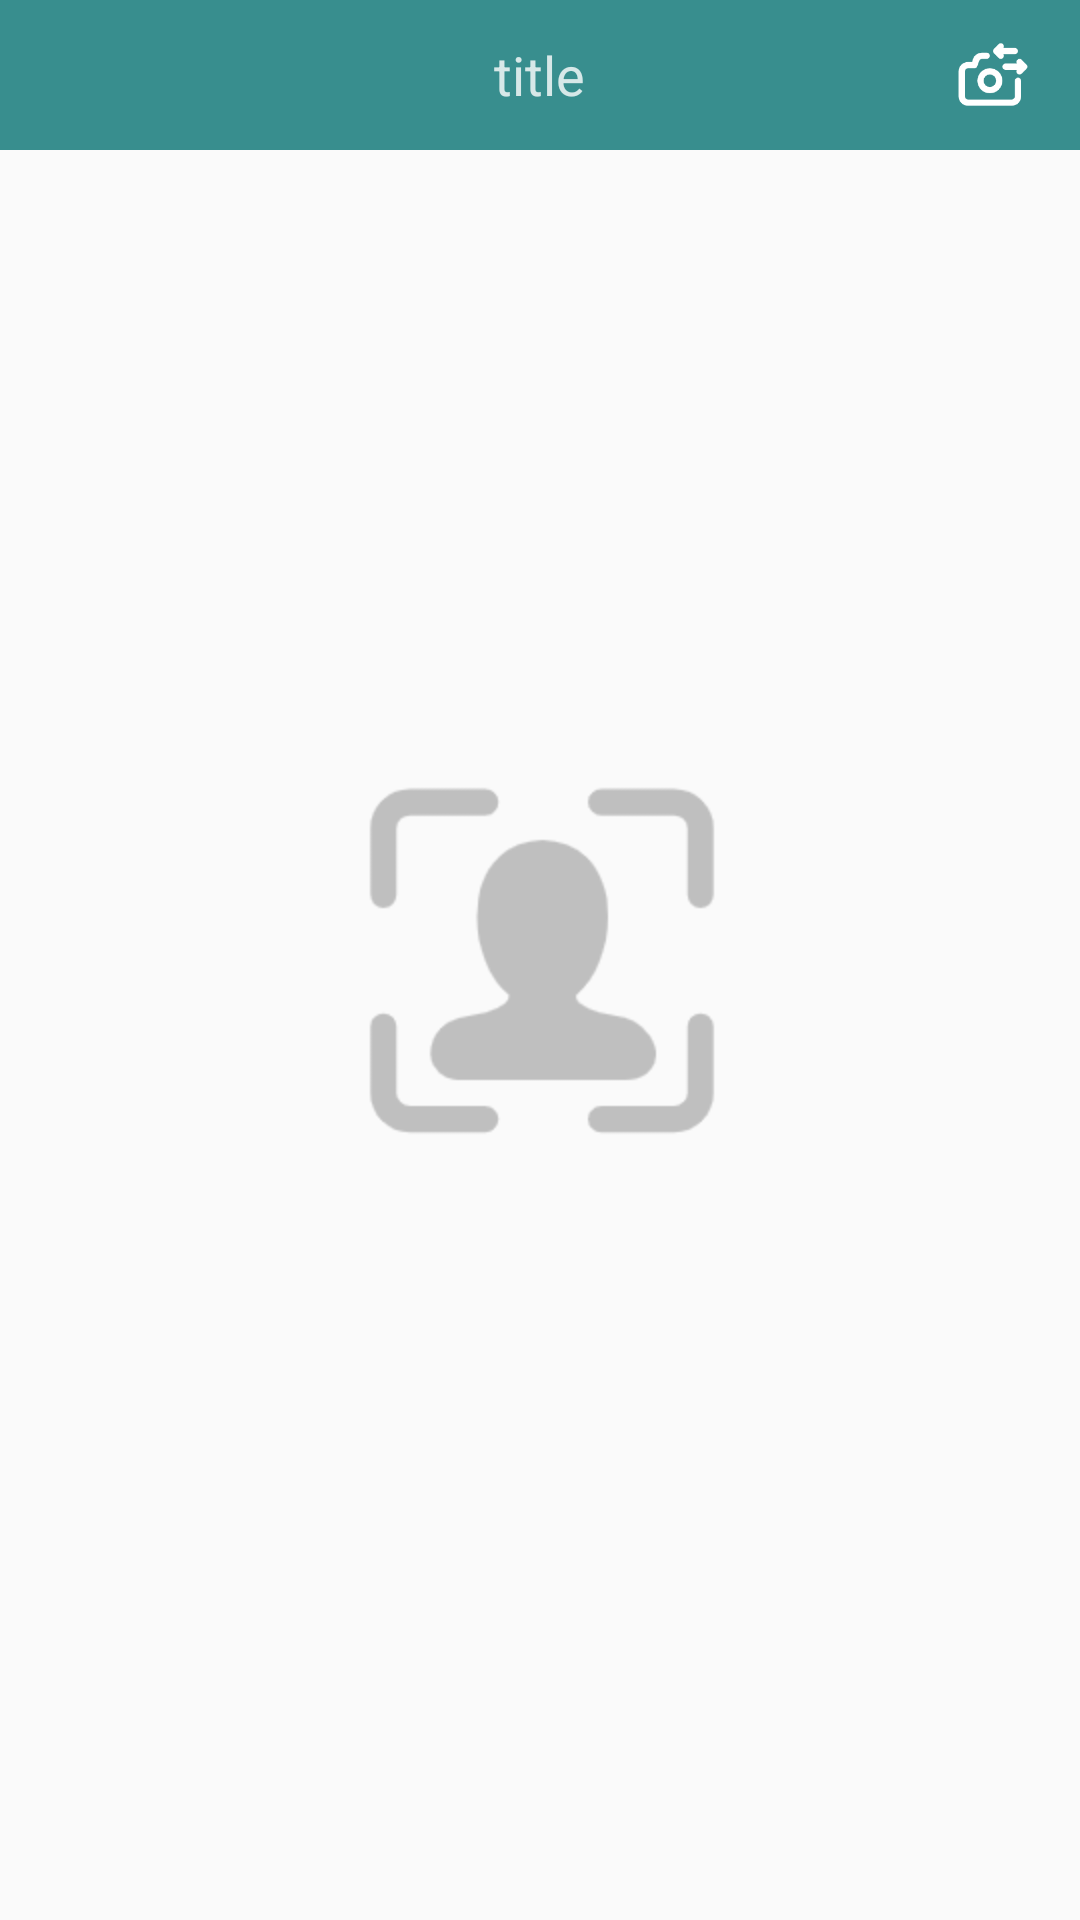

Locate icon controls on the screen. Image size 1080 x 1920, boxes as [x1,y1,x2,y2].
camera change: [958,43,1028,106]
face none: [370,789,714,1133]
